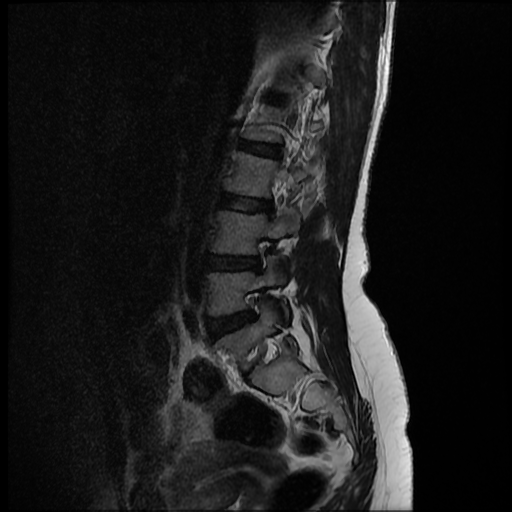RFS1: (235, 283, 277, 328)
RFS2: (245, 230, 280, 277)
